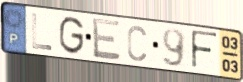9: (160, 27, 189, 68)
C: (126, 24, 148, 63)
E: (91, 16, 122, 62)
F: (189, 29, 219, 72)
G: (57, 15, 86, 57)
L: (30, 11, 54, 52)
